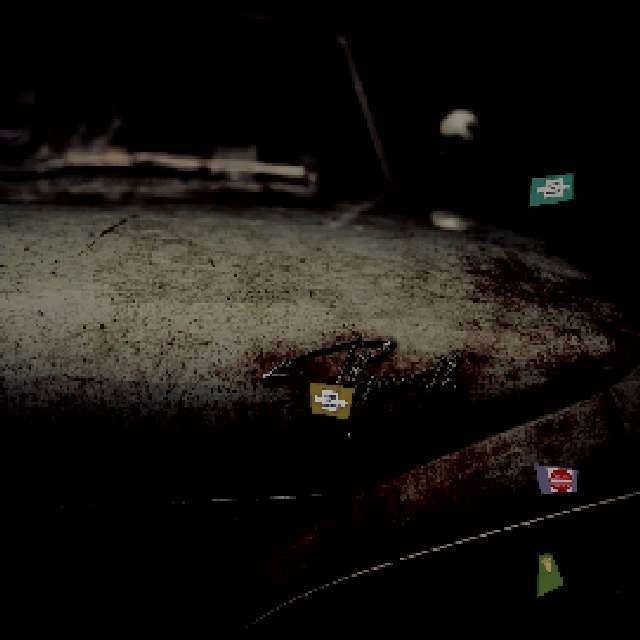DO_NOT_ENTER: (544, 465, 575, 491)
DO_NOT_GO_AROUND: (307, 386, 348, 412), (531, 176, 570, 199)
NOT_YIELD: (536, 555, 555, 574)
